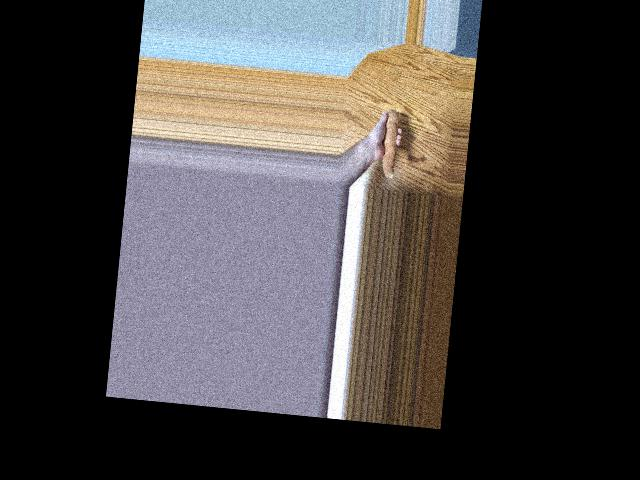sweet_potato: (373, 107, 400, 180)
